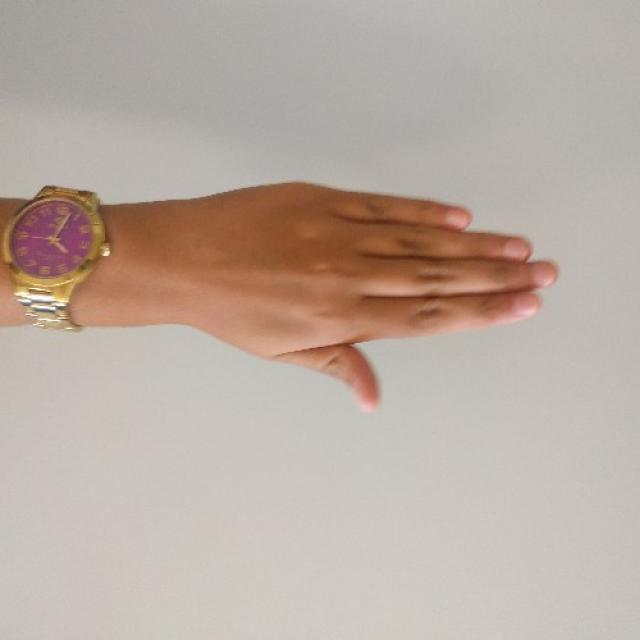paper: (165, 177, 564, 410)
